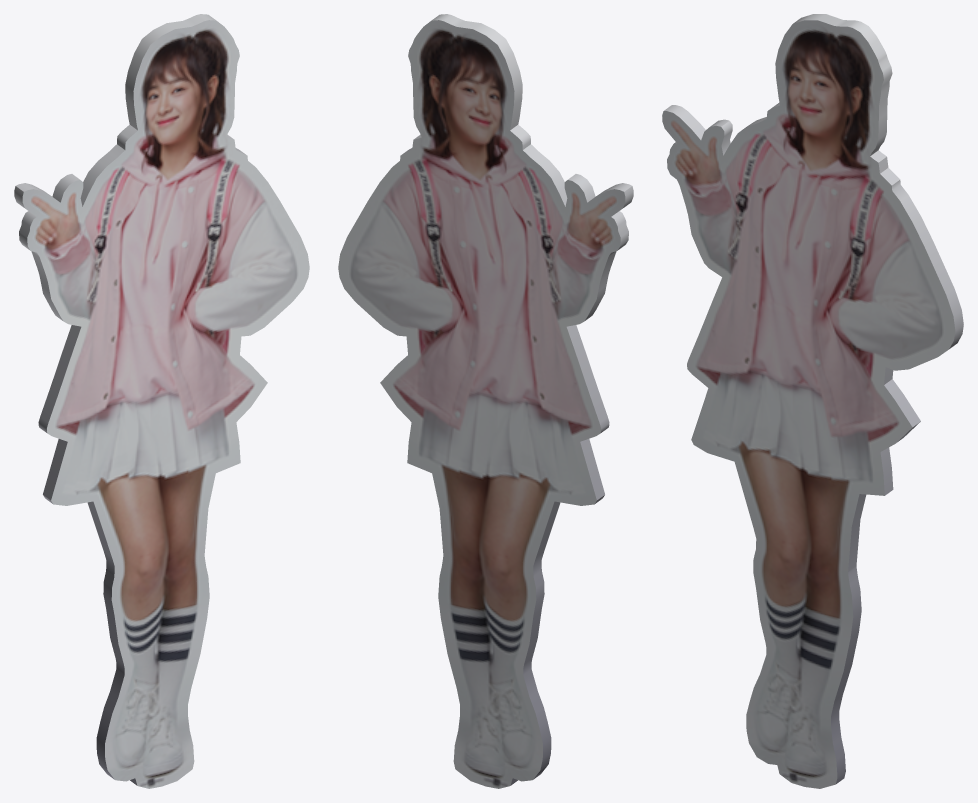
The model's file is panel_sejeong_3.FBX.
The picture shows the model from 3 angles, left to right: view 1: azimuth 30°, elevation 25°; view 2: azimuth 150°, elevation 25°; view 3: azimuth 330°, elevation 25°; orthographic projection. The views are drawn at different scales.
Visible parts, largest first — view 1: panel_sejeong_3; view 2: panel_sejeong_3; view 3: panel_sejeong_3.
Part boxes in pixels (bbox=[...]): panel_sejeong_3: bbox=[14, 14, 309, 788]; panel_sejeong_3: bbox=[338, 14, 633, 788]; panel_sejeong_3: bbox=[662, 14, 963, 788].
Size of the model in its own units: 79.22 by 199 by 3.97.
Materials: 1 (1 with a texture image).
